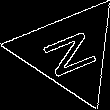N_NE: (35, 23, 103, 80)
